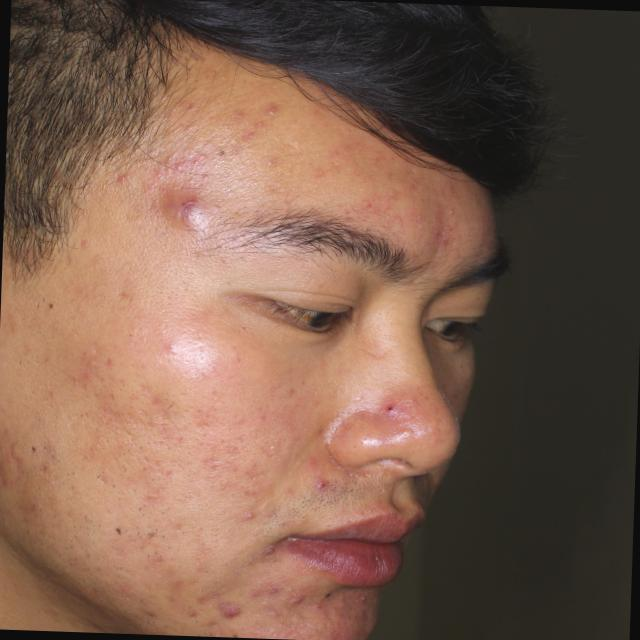blackhead: (140, 598, 143, 602), (348, 436, 351, 438)
nodule: (170, 195, 208, 225)
